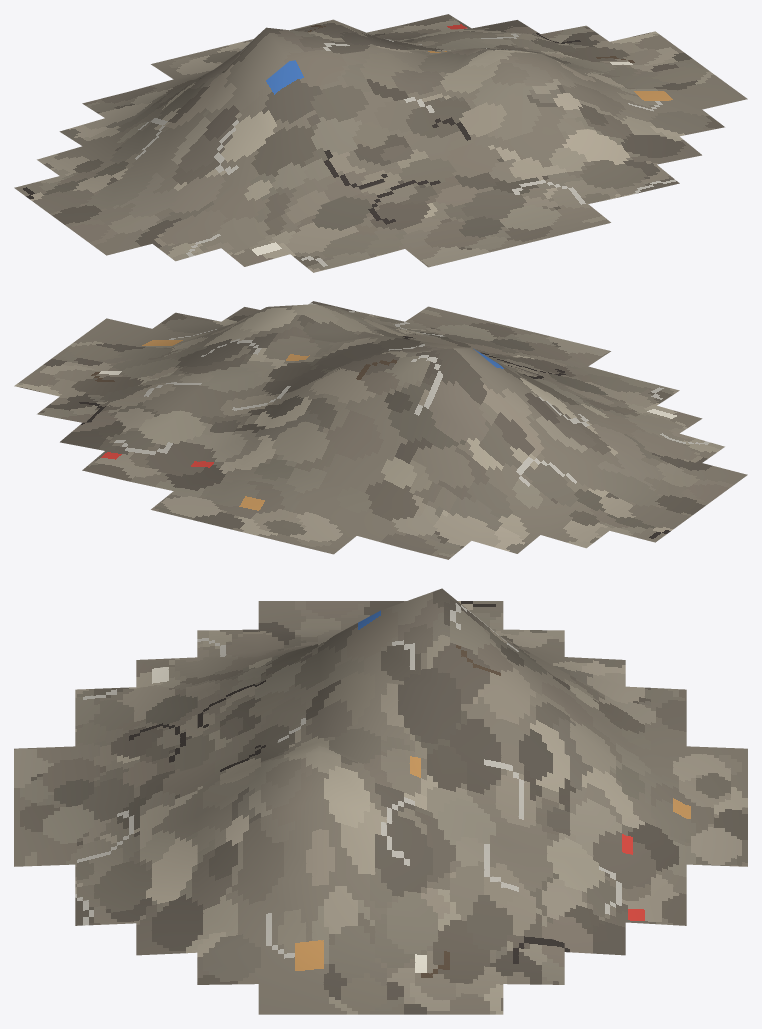
The model's file is dustpile_own.glb.
3 views of the same model, one above another, from view 1: azimuth 30°, elevation 25°; view 2: azimuth 150°, elevation 25°; view 3: azimuth 270°, elevation 25° (orthographic). The views are drawn at different scales.
Parts seen in each view (by area): view 1: Grid; view 2: Grid; view 3: Grid.
Part boxes in pixels (box(x1,y1,x2,y2)): Grid: box(14, 14, 747, 272); Grid: box(14, 301, 747, 559); Grid: box(14, 588, 747, 1014).
Size of the model in its own units: 0.4 by 0.0723 by 0.3.
Materials: 1 (1 with a texture image).
